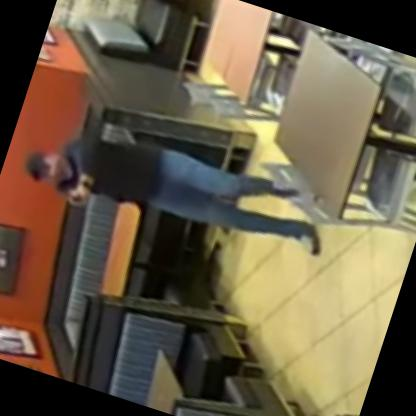Human Body: (8, 87, 349, 283)
